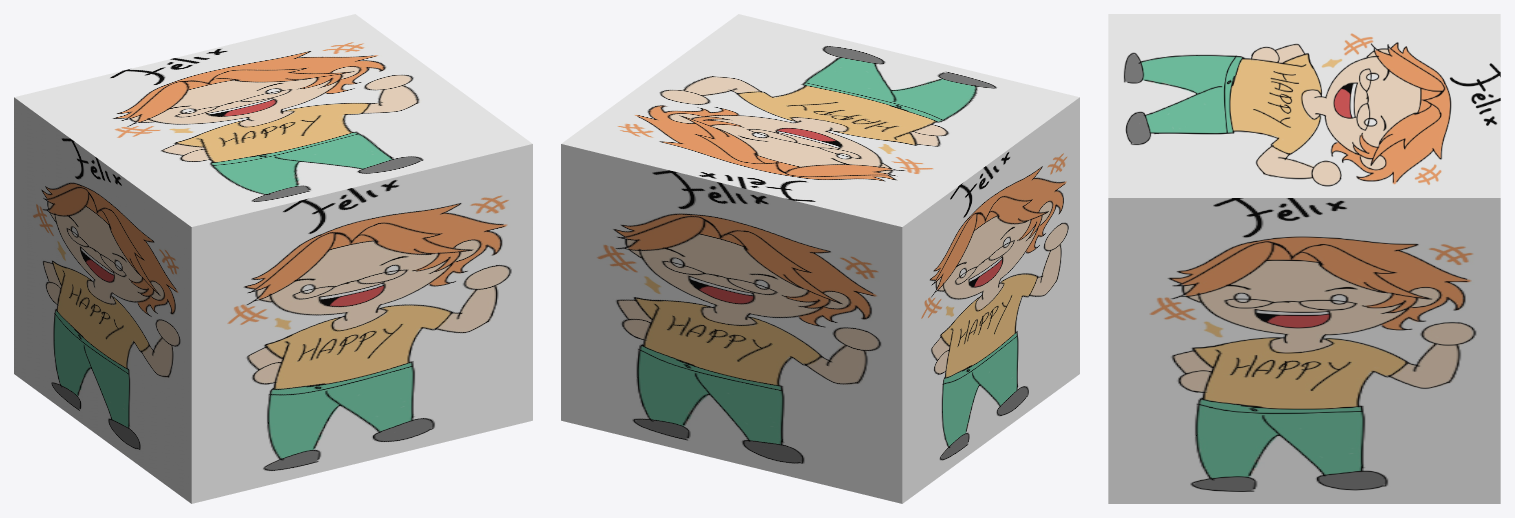
File: asset.gltf
3 views of the same model, side by side, from view 1: azimuth 30°, elevation 25°; view 2: azimuth 150°, elevation 25°; view 3: azimuth 270°, elevation 25° (orthographic). The views are drawn at different scales.
Visible parts, largest first — view 1: Box; view 2: Box; view 3: Box.
Part boxes in pixels (<box>): Box: <box>14,14,532,503</box>; Box: <box>561,14,1079,503</box>; Box: <box>1108,14,1500,503</box>.
Size of the model in its own units: 9.91 by 7.68 by 8.92.
1 material, 1 textured.
